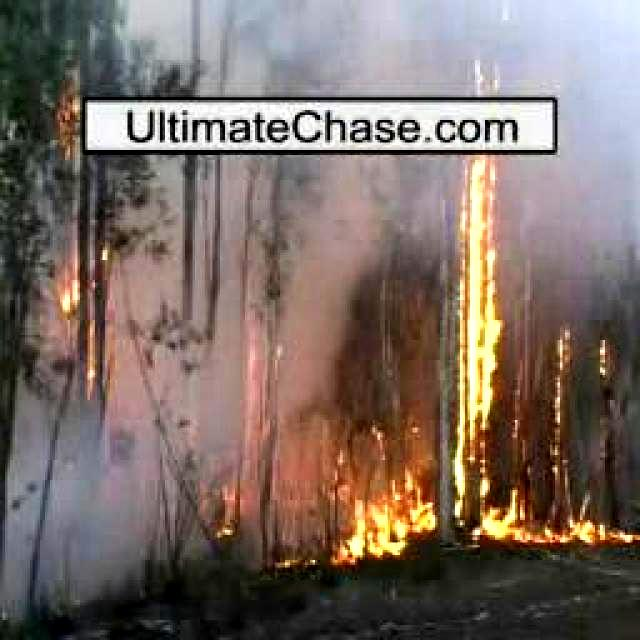fire: (462, 66, 504, 546), (326, 435, 434, 567), (41, 235, 119, 388), (512, 500, 640, 544), (554, 318, 570, 484), (215, 466, 252, 530), (58, 94, 86, 152), (594, 346, 610, 380)
